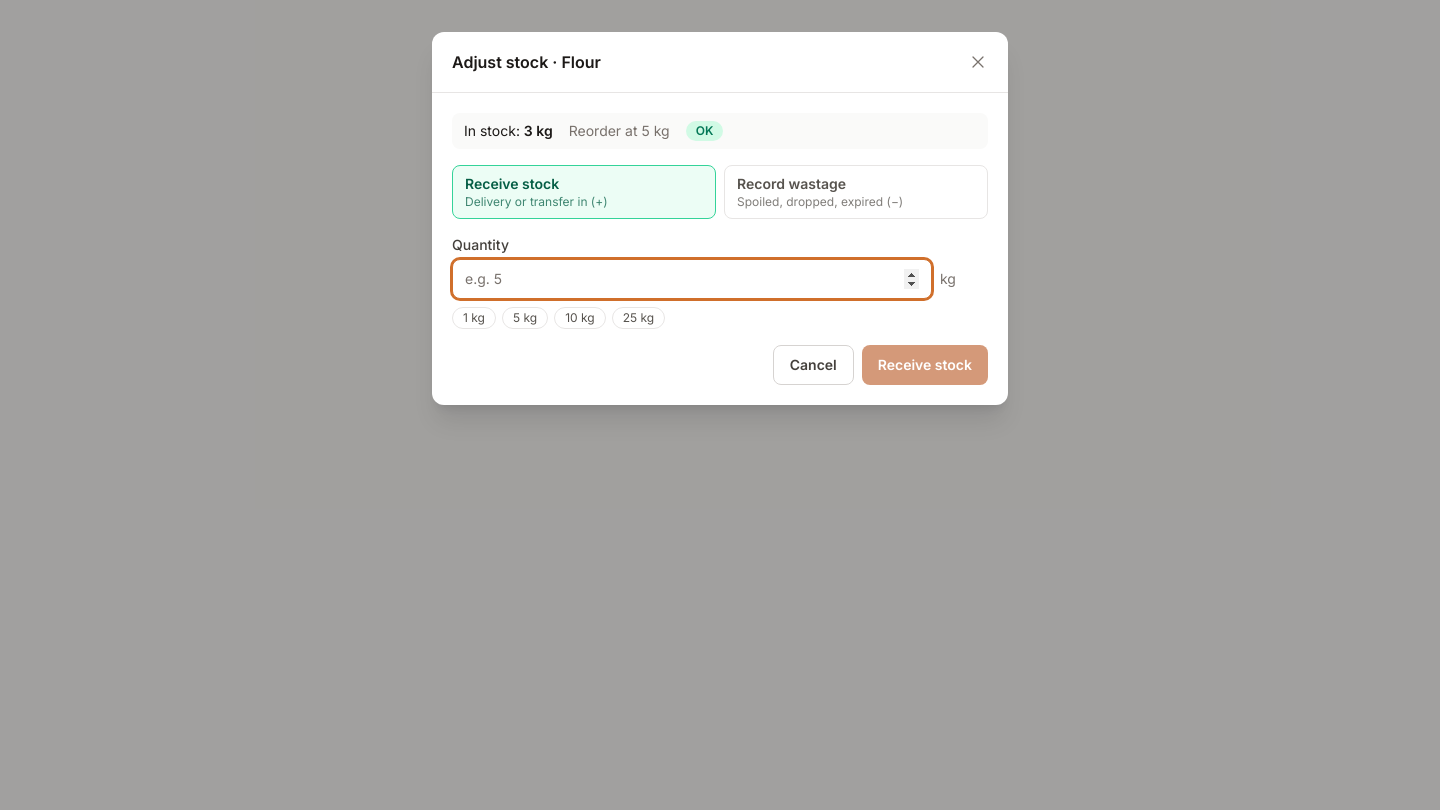
it: StockAdjust › refuses to waste more than is in stock
Click the radio button labelled "Record wastage Spoiled, dropped, expired (−)" at (856, 192), box x1=724 y1=165 x2=988 y2=219
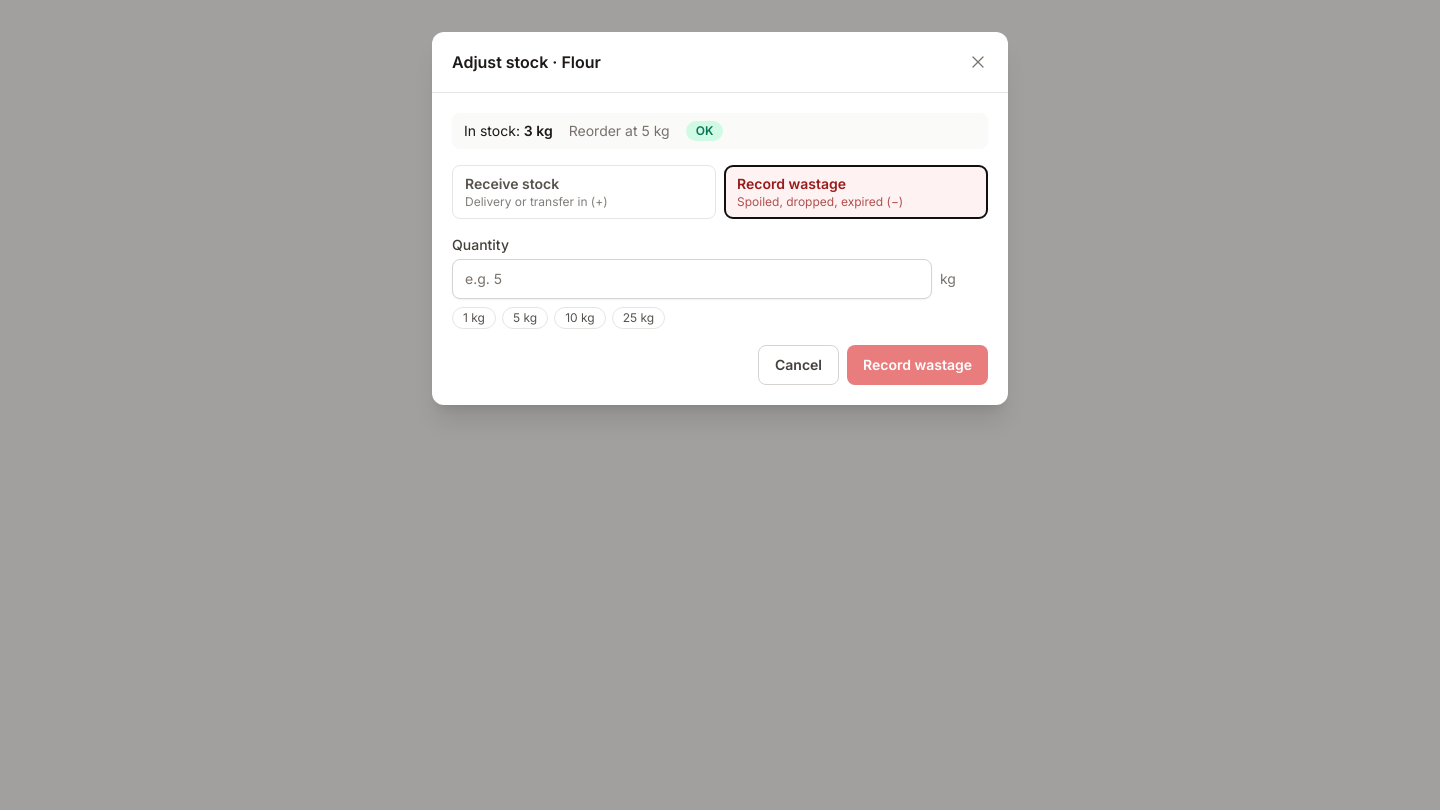
Type "5" into the number field labelled "Quantity" at (692, 279), box x1=452 y1=259 x2=932 y2=299
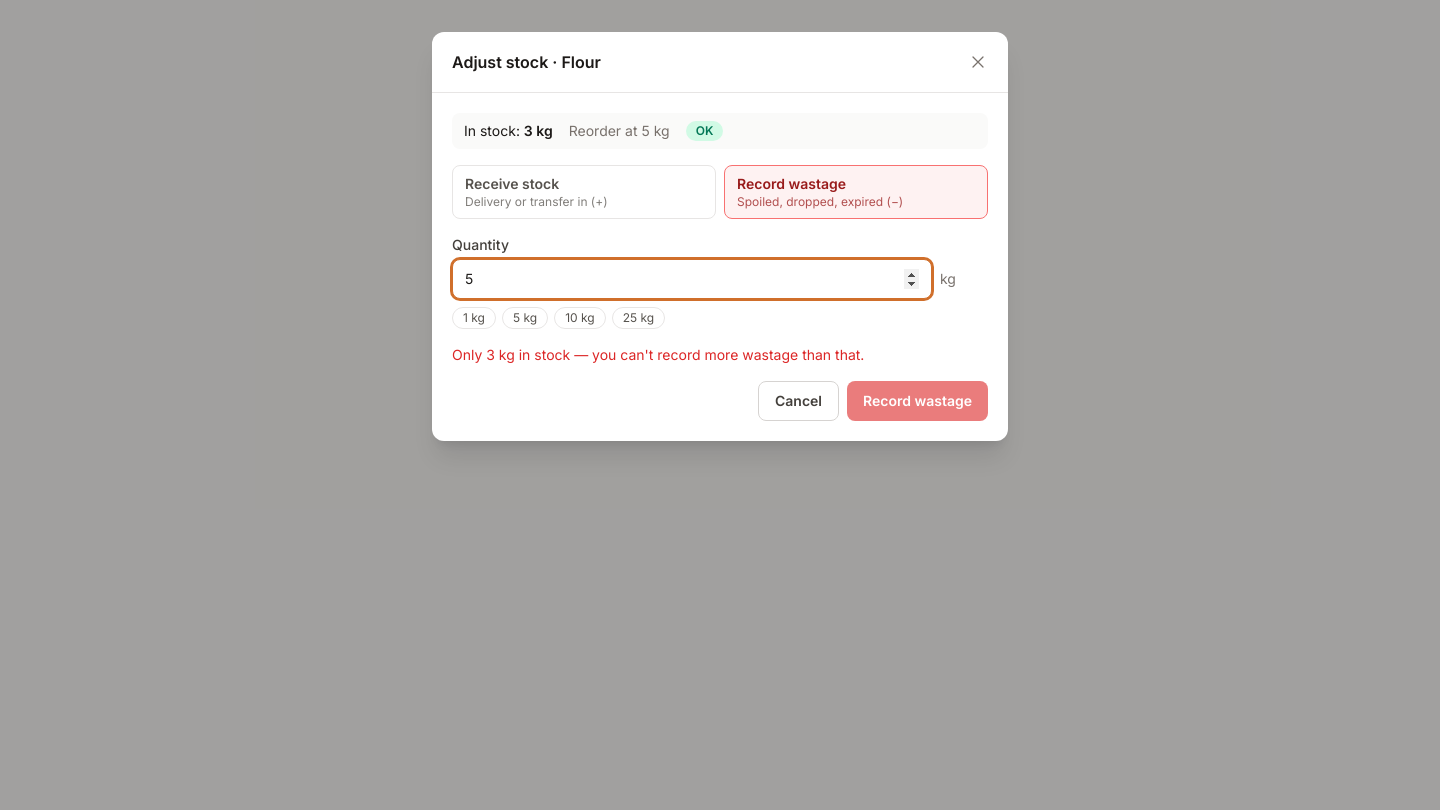
Expected: the button "Record wastage" is disabled, x1=847 y1=381 x2=988 y2=421
Now the text "Only 3 kg in stock — you can't record more wastage than that." is shown, box x1=452 y1=346 x2=864 y2=363
